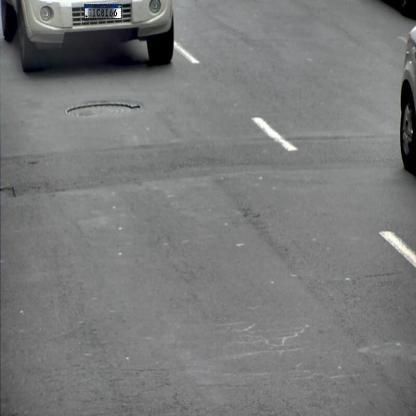PlacaM: (84, 4, 122, 19)
